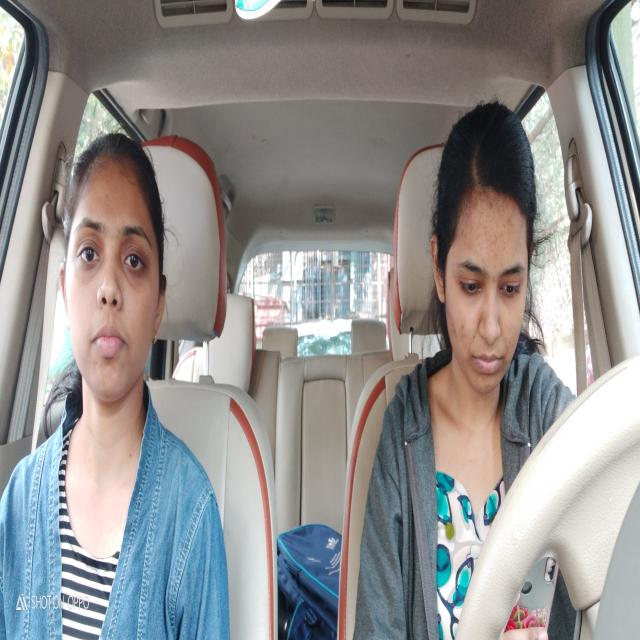mobile: (501, 539, 562, 640)
person: (426, 97, 538, 406), (59, 131, 167, 437)
